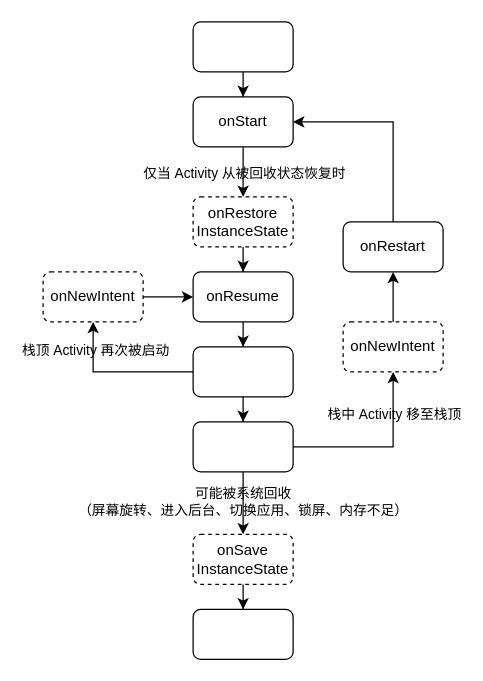
This 483x681 diagram has some shape labels left out. The centre of each missing label's shape, as x and y in pixels:
"onCreate" goes at point (242, 46).
"onDestroy" goes at point (242, 633).
"onPause" goes at point (242, 371).
"onStop" goes at point (242, 446).
